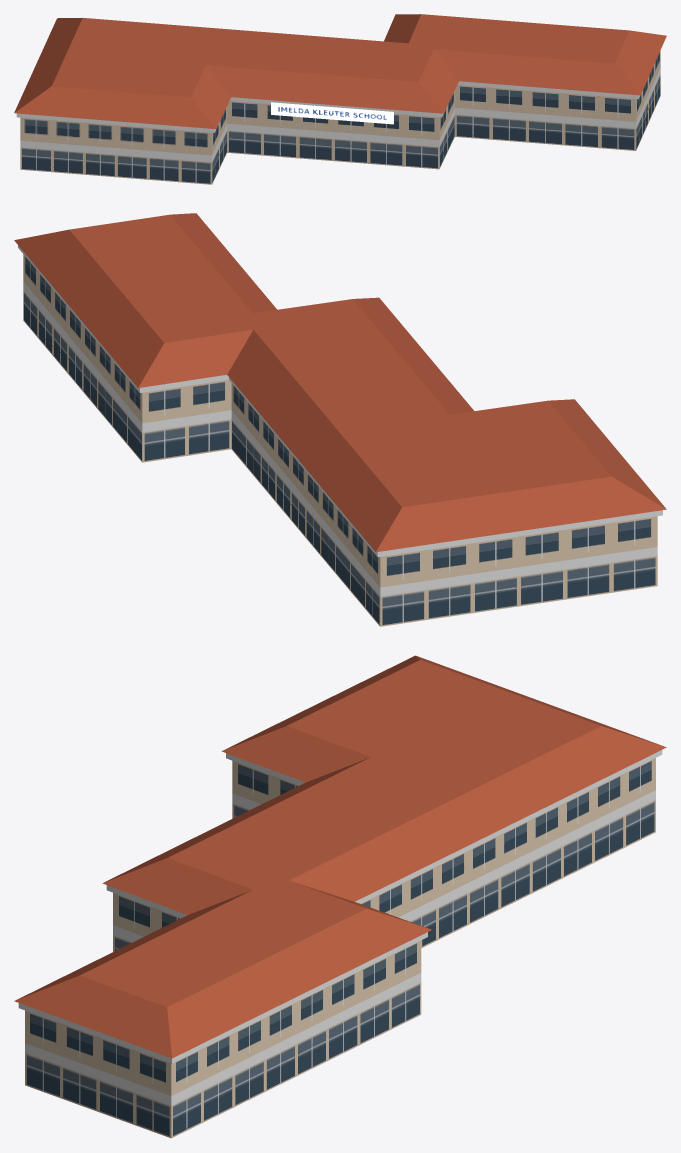
File: imeldakleuter.glb
The picture shows the model from 3 angles, top to bottom: view 1: azimuth 30°, elevation 25°; view 2: azimuth 150°, elevation 25°; view 3: azimuth 270°, elevation 25°; orthographic projection. The views are drawn at different scales.
Visible parts, largest first — view 1: imeldakleuter_lod0; view 2: imeldakleuter_lod0; view 3: imeldakleuter_lod0.
Part boxes in pixels (bbox=[...]): imeldakleuter_lod0: bbox=[14, 14, 666, 184]; imeldakleuter_lod0: bbox=[14, 213, 666, 626]; imeldakleuter_lod0: bbox=[14, 655, 666, 1138].
Size of what is drawn, in the model's own units: 73.6 by 9.2 by 50.39.
5 materials, 3 textured.
